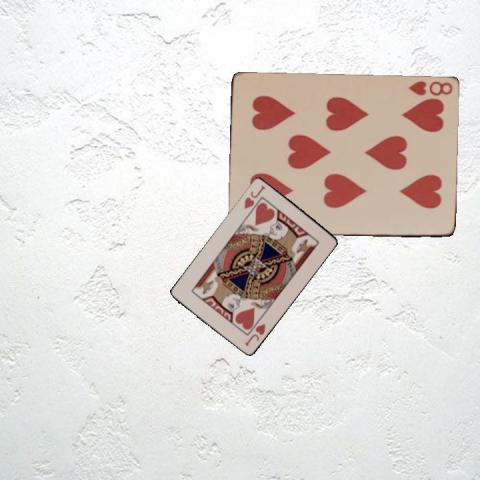8h: (405, 78, 453, 97)
Jh: (240, 181, 266, 210), (241, 321, 267, 347)
